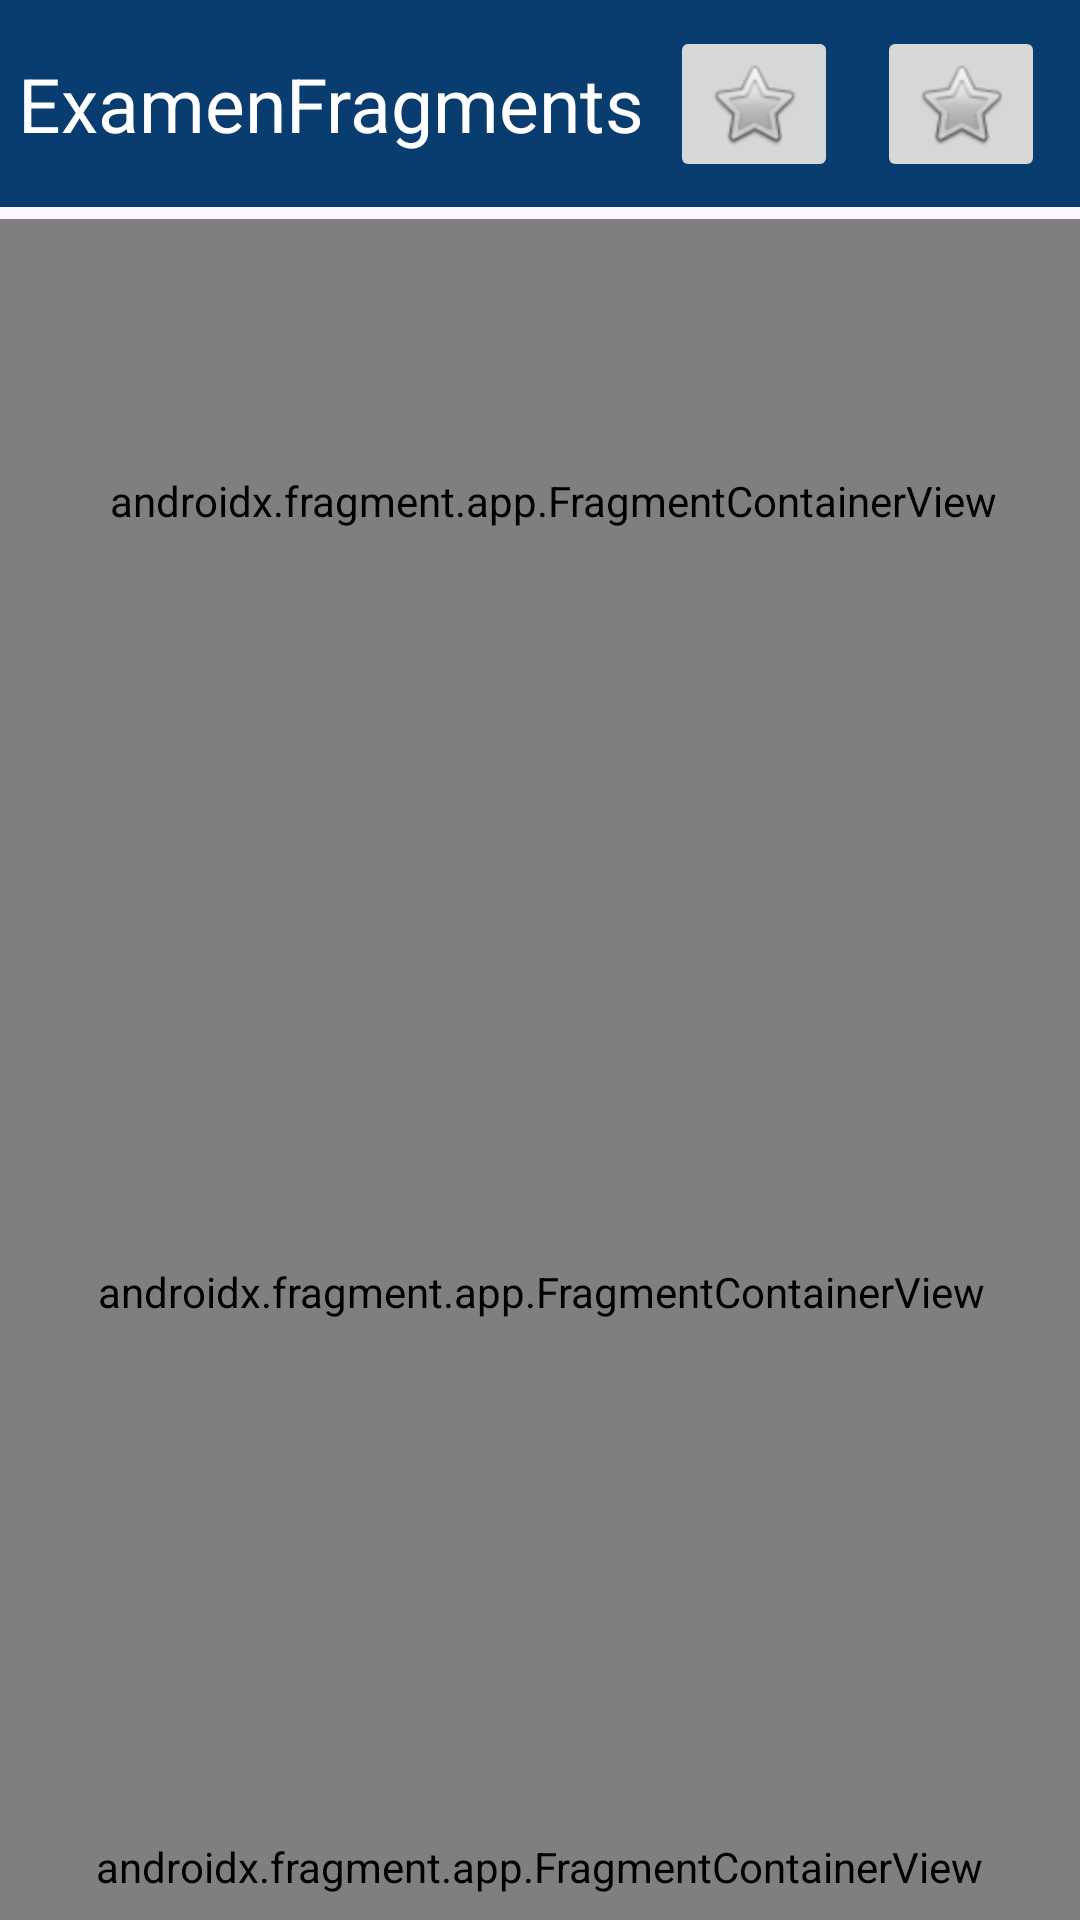

Screen size 1080w x 1920h. Icon name, then its center in pixels as (x=x, y=y):
star: (x=754, y=104), (x=961, y=104)
